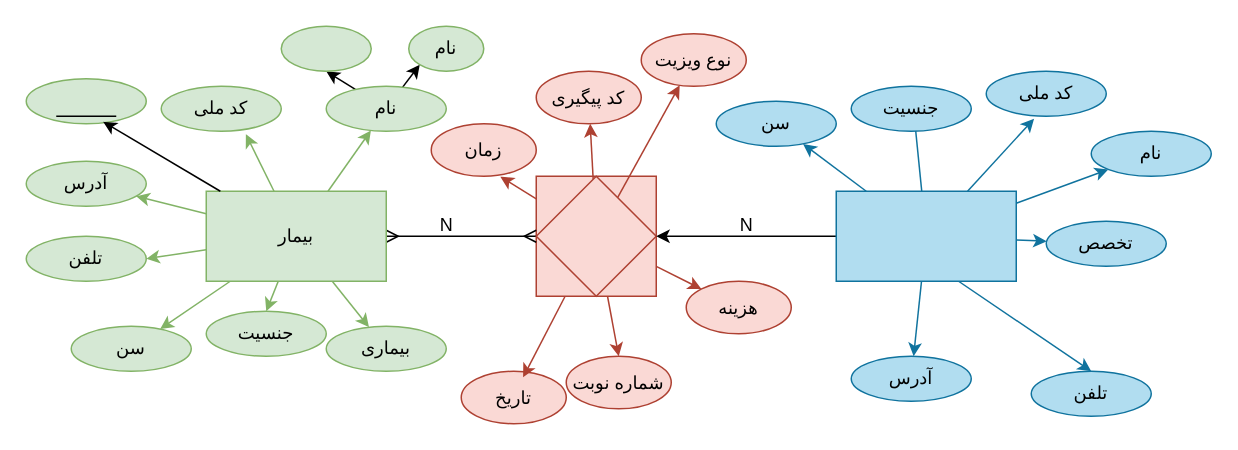
This 1238x450 diagram has some shape labels left out. Each missing label, with the centre of its shape:
"دکتر" belongs at (925,235).
"شماره پرونده" belongs at (85,100).
"نام خانوادگی" belongs at (325,48).
"ویزیت" belongs at (595,235).
